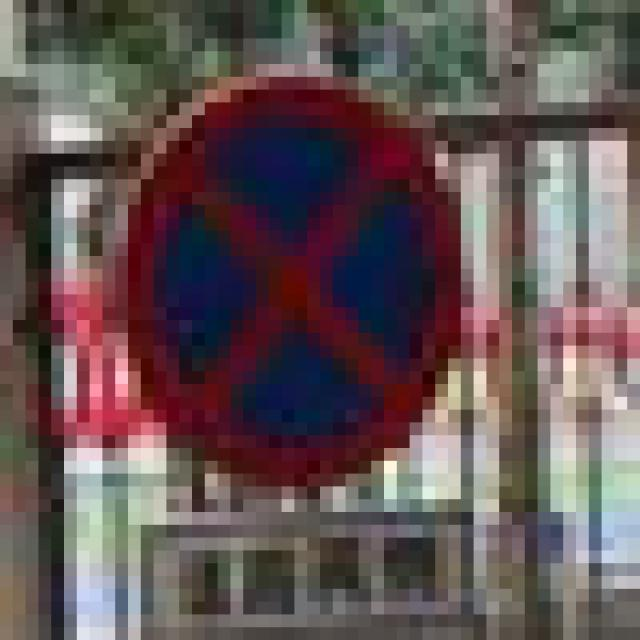no_parking: (102, 64, 461, 474)
